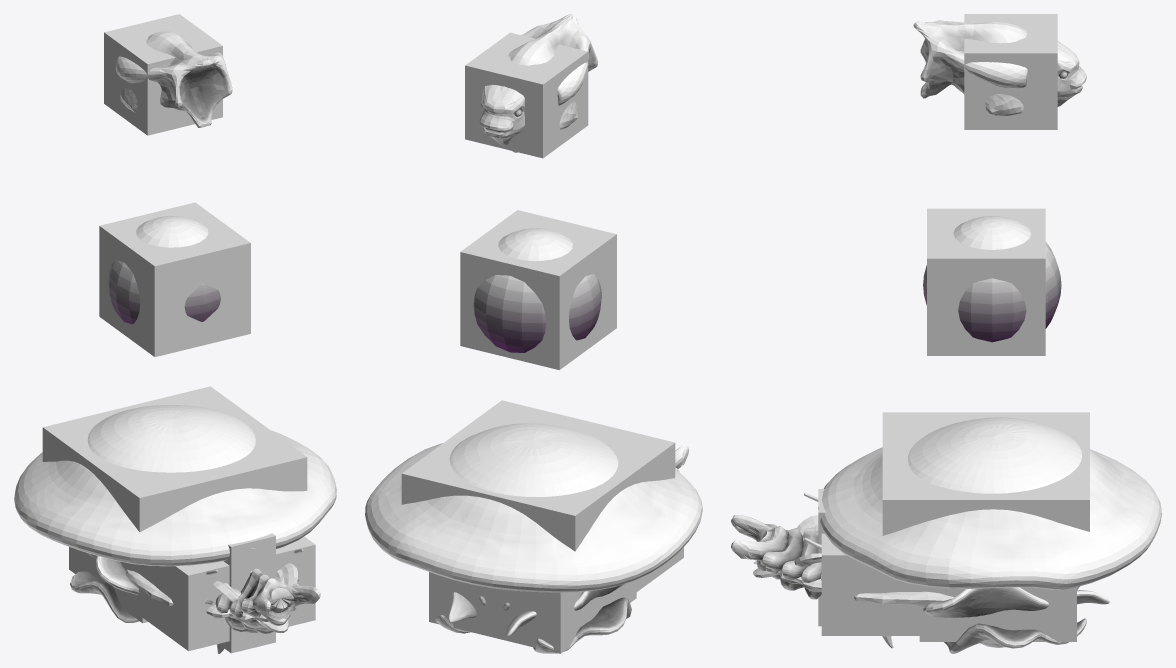
The model's file is FLOATERCREATURE.fbx.
The picture shows the model from 3 angles, left to right: view 1: azimuth 30°, elevation 25°; view 2: azimuth 150°, elevation 25°; view 3: azimuth 270°, elevation 25°; orthographic projection. The views are drawn at different scales.
Parts seen in each view (by area): view 1: _Float_RadialWave, FLOATERCREATURE_COLL.002, FLOATERCREATURE_COLL, FLOATERCREATURE_COLL.001, _Float_TrailOrb, FLOATERCREATURE_COLL.006, _Float_Metalorb, _Float_RidgeEel, FLOATERCREATURE_COLL.003, FLOATERCREATURE_COLL.007, _Float_RoseFish, FLOATERCREATURE_COLL.004 (+2 smaller); view 2: _Float_RadialWave, FLOATERCREATURE_COLL.002, FLOATERCREATURE_COLL, FLOATERCREATURE_COLL.001, _Float_Metalorb, FLOATERCREATURE_COLL.004, _Float_TrailOrb, _Float_RoseFish, FLOATERCREATURE_COLL.005; view 3: _Float_RadialWave, FLOATERCREATURE_COLL.002, FLOATERCREATURE_COLL, FLOATERCREATURE_COLL.001, _Float_TrailOrb, _Float_Metalorb, FLOATERCREATURE_COLL.006, _Float_RoseFish, FLOATERCREATURE_COLL.005, _Float_RidgeEel, FLOATERCREATURE_COLL.004, FLOATERCREATURE_COLL.007 (+2 smaller).
Boxes of the visible parts, <box> form: _Float_RadialWave: <box>14,404,336,566</box>; FLOATERCREATURE_COLL.002: <box>99,202,250,356</box>; FLOATERCREATURE_COLL: <box>42,386,307,532</box>; FLOATERCREATURE_COLL.001: <box>104,14,222,135</box>; _Float_TrailOrb: <box>115,31,232,127</box>; FLOATERCREATURE_COLL.006: <box>115,553,315,651</box>; _Float_Metalorb: <box>108,216,220,324</box>; _Float_RidgeEel: <box>205,568,320,633</box>; FLOATERCREATURE_COLL.003: <box>218,533,275,653</box>; FLOATERCREATURE_COLL.007: <box>115,536,315,642</box>; _Float_RoseFish: <box>70,553,228,622</box>; FLOATERCREATURE_COLL.004: <box>69,547,147,623</box>; _Float_RadialWave: <box>365,423,702,592</box>; FLOATERCREATURE_COLL.002: <box>460,210,616,369</box>; FLOATERCREATURE_COLL: <box>401,400,675,551</box>; FLOATERCREATURE_COLL.001: <box>465,32,588,158</box>; _Float_Metalorb: <box>473,228,601,352</box>; FLOATERCREATURE_COLL.004: <box>429,572,636,653</box>; _Float_TrailOrb: <box>479,14,598,152</box>; _Float_RoseFish: <box>435,584,631,653</box>; FLOATERCREATURE_COLL.005: <box>608,548,683,604</box>; _Float_RadialWave: <box>818,417,1161,589</box>; FLOATERCREATURE_COLL.002: <box>927,208,1045,355</box>; FLOATERCREATURE_COLL: <box>882,412,1089,535</box>; FLOATERCREATURE_COLL.001: <box>964,14,1057,129</box>; _Float_TrailOrb: <box>913,20,1086,115</box>; _Float_Metalorb: <box>923,216,1061,342</box>; FLOATERCREATURE_COLL.006: <box>821,564,978,635</box>; _Float_RoseFish: <box>923,586,1109,653</box>; FLOATERCREATURE_COLL.005: <box>821,561,978,632</box>; _Float_RidgeEel: <box>731,515,821,599</box>; FLOATERCREATURE_COLL.004: <box>919,587,1076,641</box>; FLOATERCREATURE_COLL.007: <box>821,488,978,626</box>.
Size of the model in its own units: 367 by 740 by 462.
